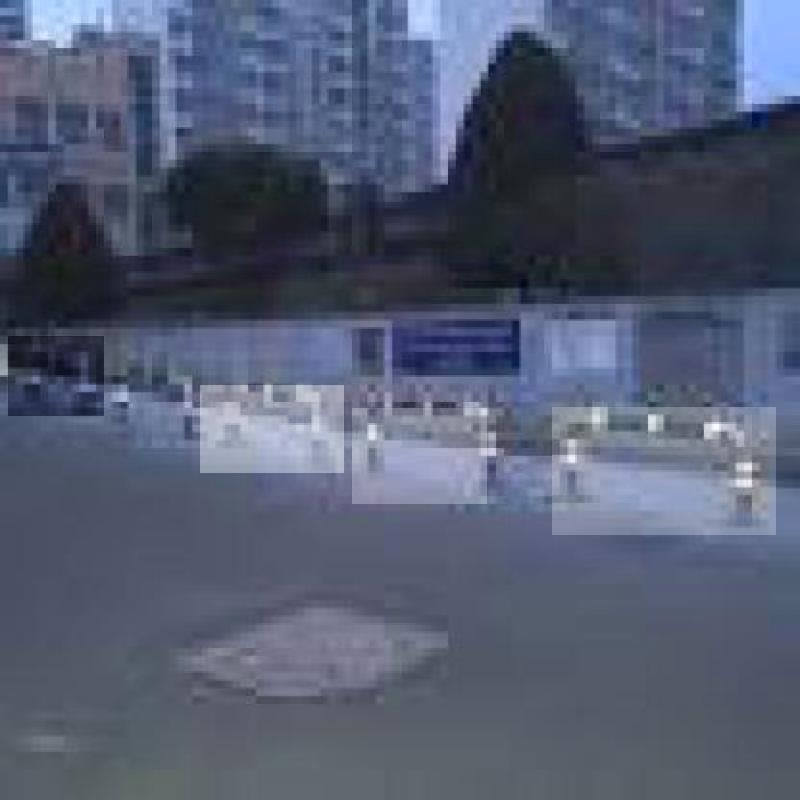bolard: (552, 408, 776, 536), (352, 408, 487, 504), (200, 385, 344, 473), (104, 367, 192, 456), (8, 336, 104, 416)
